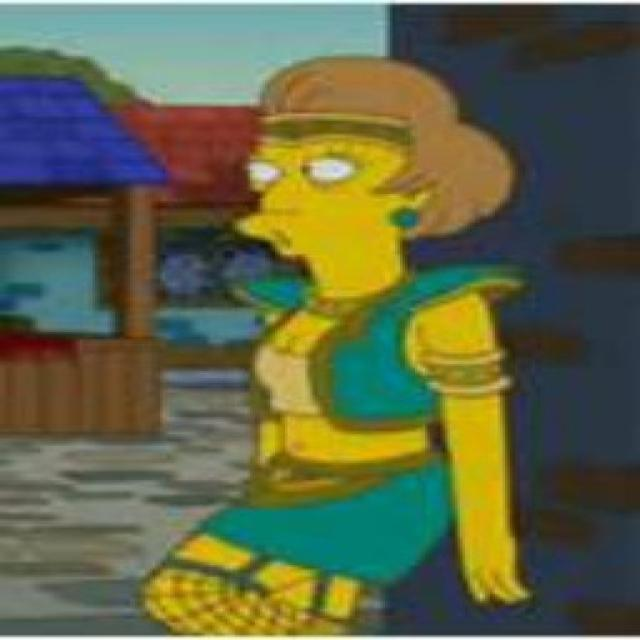Edna Krappel: (229, 54, 521, 303)
